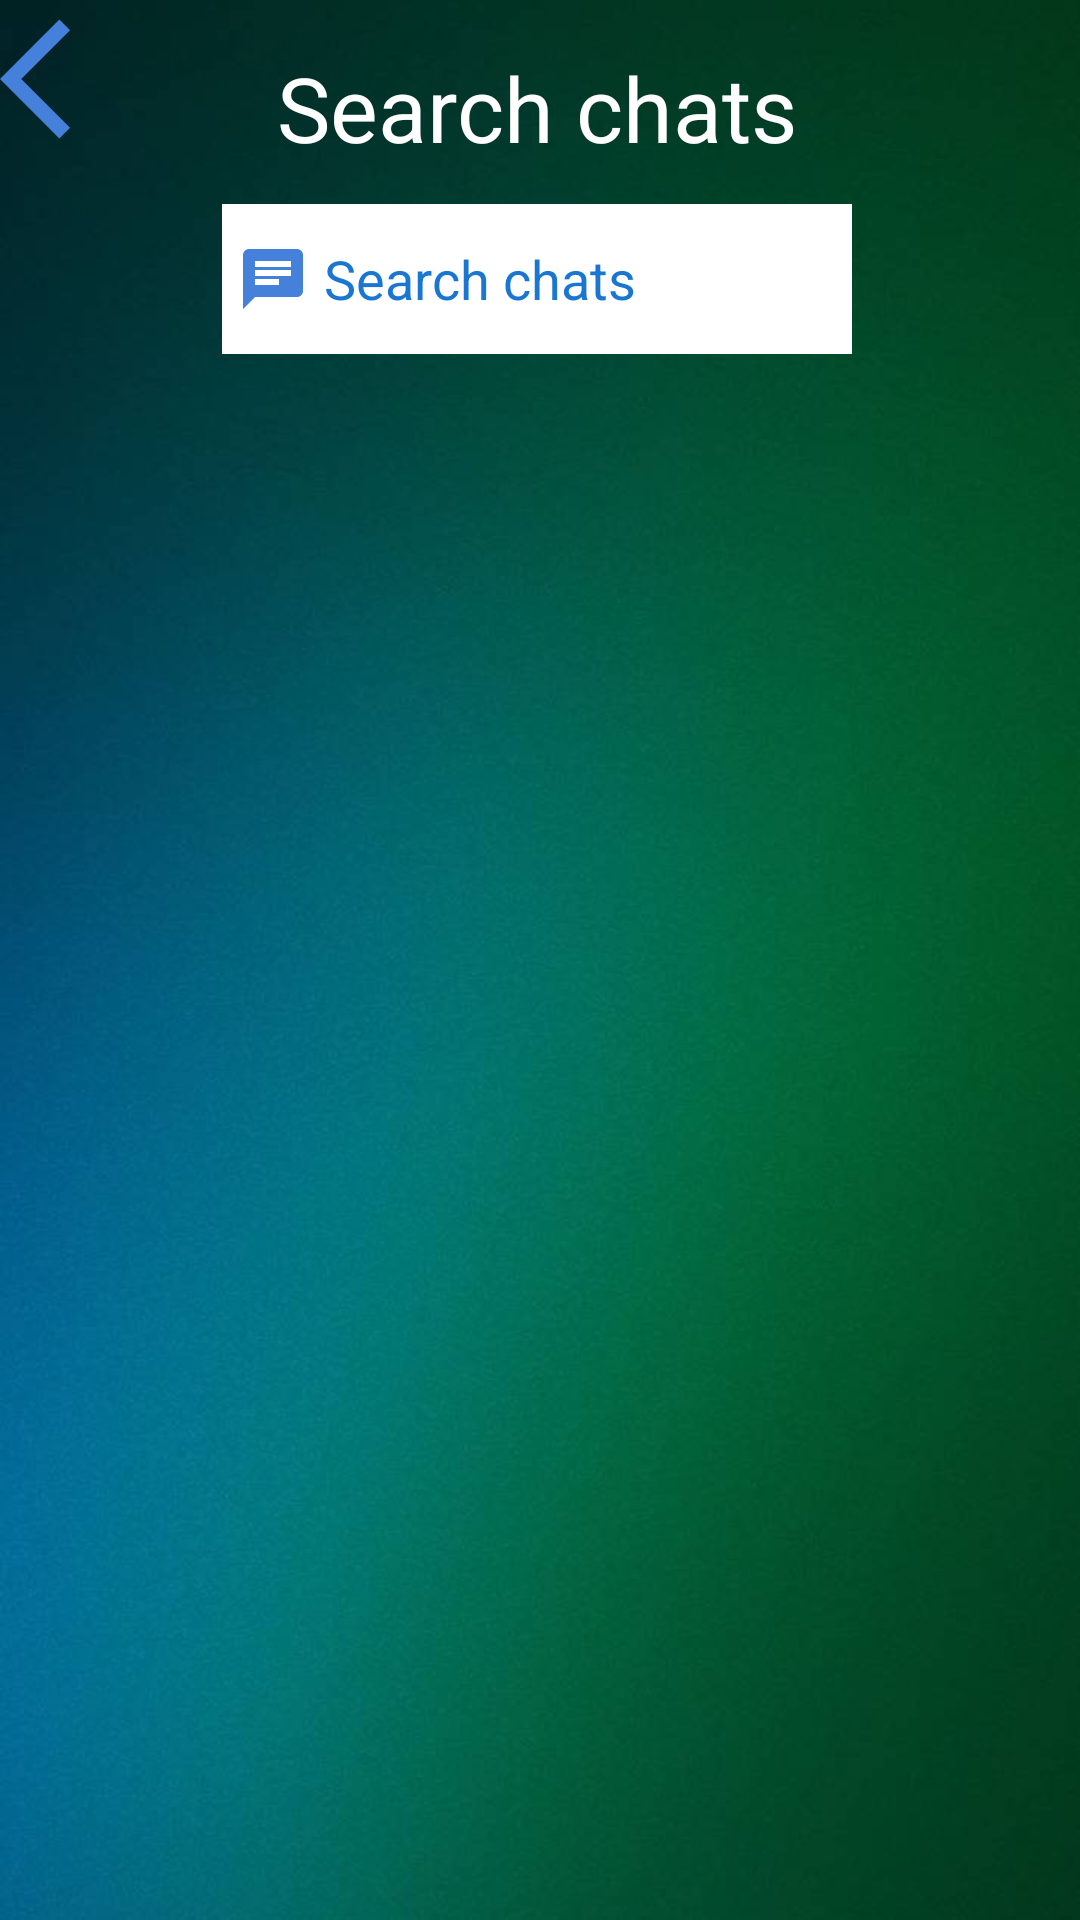

Icon click points for this 1080 × 1920 phone screenshot, format (x=x, y=y):
Back button: (x=35, y=79)
